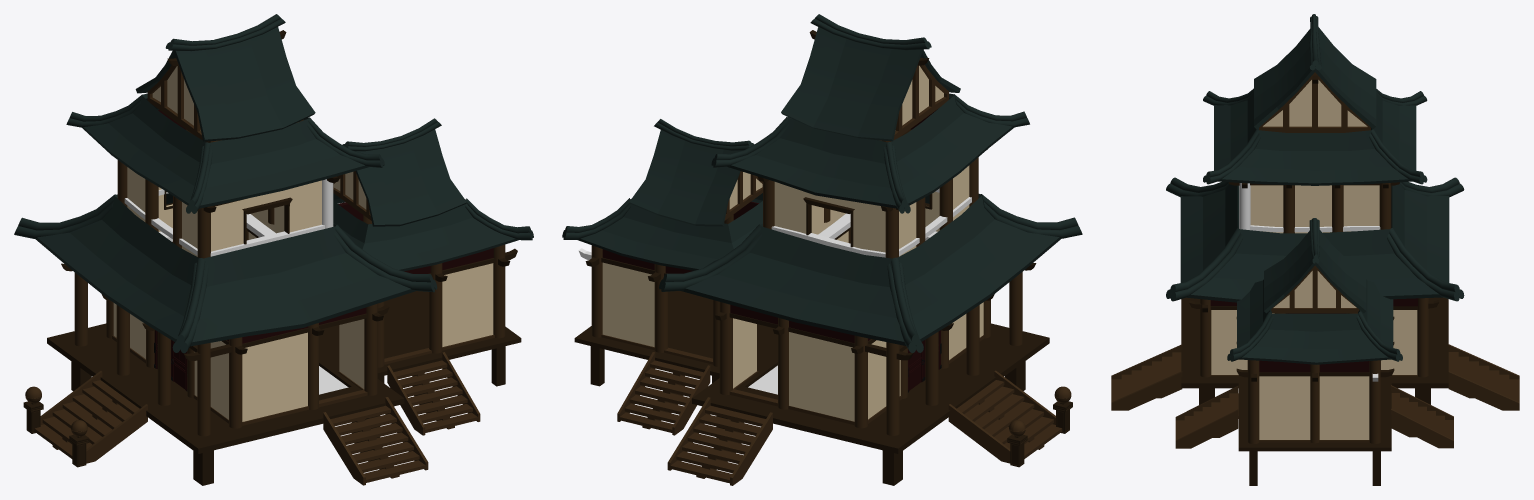
Rendered from Dojo.fbx.
3 renders of one model, left to right at view 1: azimuth 30°, elevation 25°; view 2: azimuth 150°, elevation 25°; view 3: azimuth 270°, elevation 25°, orthographic. The views are drawn at different scales.
Visible parts, largest first — view 1: LowerRoof, MidRoof, Walls0, Platform, Pillars0, TopRoof, BackRoof, BackRoofLower, StraightStair003, Flr2Walls, StraightStair001, Platform1 (+17 smaller); view 2: LowerRoof, MidRoof, Walls0, Platform, Pillars0, TopRoof, BackRoof, BackRoofLower, StraightStair002, Flr2Walls, StraightStair001, Platform1 (+15 smaller); view 3: LowerRoof, MidRoof, Walls0, BackRoofLower, TopRoof, Platform, Pillars0, Flr2Walls, Cylinder023, BackRoof, Platform1, StraightStair002 (+16 smaller).
Boxes of the visible parts, x1,y1,x2,y2 form: LowerRoof: (35,193,415,346); MidRoof: (82,93,368,208); Walls0: (113,232,493,421); Platform: (47,323,404,485); Pillars0: (74,215,505,436); TopRoof: (135,27,315,141); BackRoof: (337,129,466,226); BackRoofLower: (333,193,518,271); StraightStair003: (323,397,428,485); Flr2Walls: (127,167,321,256); StraightStair001: (34,371,147,463); Platform1: (319,291,521,386); LowerRoof: (680,194,1061,345); MidRoof: (727,93,1014,208); Walls0: (602,231,983,421); Platform: (692,323,1049,485); Pillars0: (591,214,1022,435); TopRoof: (781,27,960,141); BackRoof: (629,130,741,226); BackRoofLower: (578,193,762,270); StraightStair002: (667,397,772,485); Flr2Walls: (774,165,969,256); StraightStair001: (948,370,1062,463); Platform1: (574,291,777,386); LowerRoof: (1180,184,1449,302); MidRoof: (1214,91,1416,185); Walls0: (1211,310,1417,439); BackRoofLower: (1237,279,1393,364); TopRoof: (1254,27,1376,129); Platform: (1181,297,1448,404); Pillars0: (1200,298,1428,443); Flr2Walls: (1250,185,1379,233); Cylinder023: (1166,177,1464,301); BackRoof: (1264,229,1366,313); Platform1: (1238,383,1391,485); StraightStair002: (1448,344,1519,410).
Size of the model in its own units: 213 by 181 by 194.
